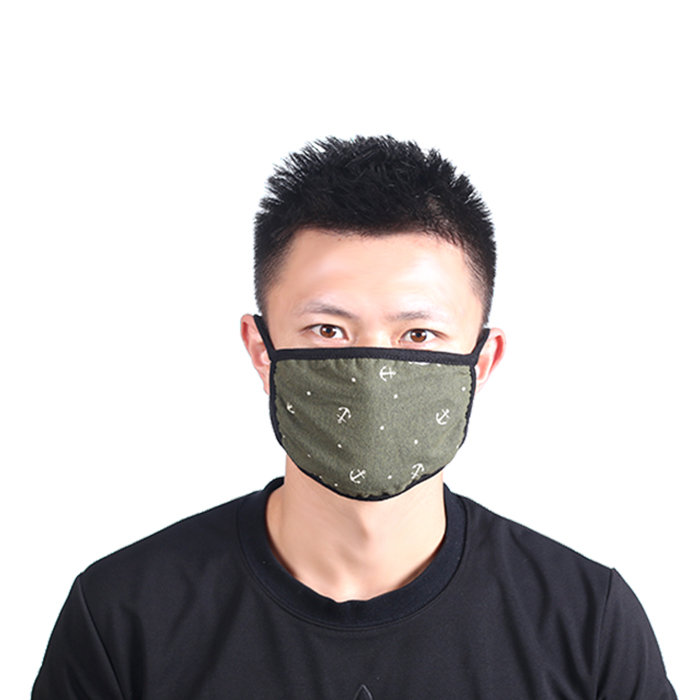face_mask: (266, 223, 478, 490)
